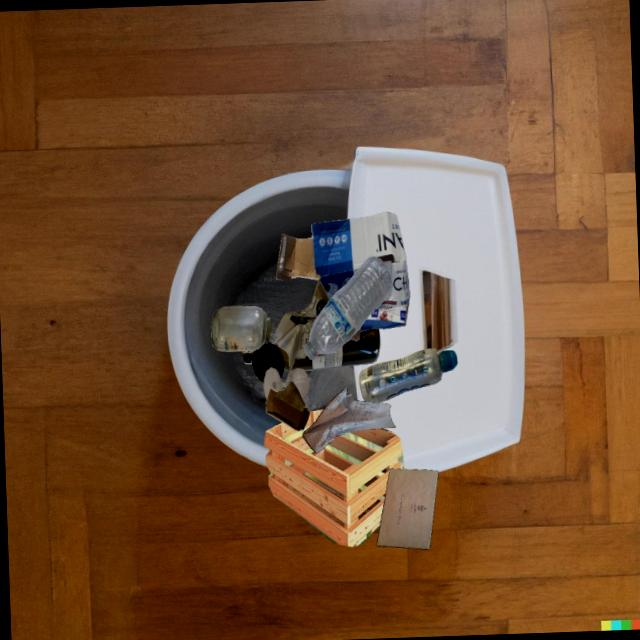cardboard: (275, 211, 409, 342), (265, 380, 310, 431)
combustible waste: (264, 409, 403, 546)
glass: (289, 328, 380, 371), (278, 332, 359, 366), (211, 306, 271, 351), (263, 367, 309, 399), (253, 346, 284, 369), (407, 274, 409, 289)
paper: (302, 386, 395, 453), (376, 468, 438, 549), (275, 280, 329, 371)
plastic: (303, 256, 392, 359), (358, 348, 457, 402), (251, 342, 284, 382)
